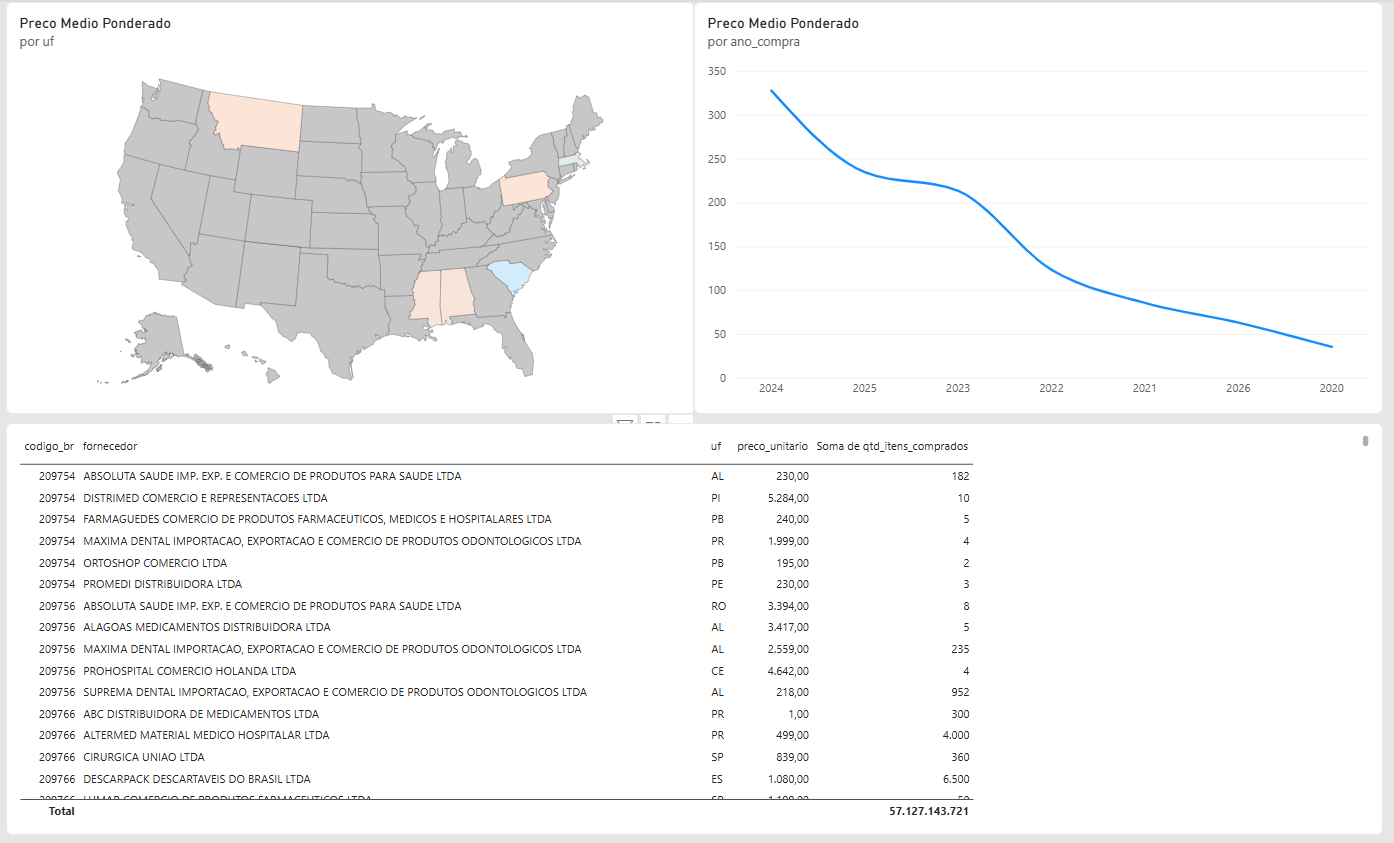

The dashboard page shown, as its layout file describes it:
{"tool":"powerbi","page":{"name":"Análise de Preços","canvas":[1920,1080],"ordinal":2},"visuals":[{"type":"shapeMap","fields":{"Category":["BPS_Consolidado.uf"],"Value":["BPS_Consolidado.Preco Medio Ponderado"]},"box":[11,0,860.7,514.9],"z":0},{"type":"lineChart","fields":{"Category":["BPS_Consolidado.ano_compra"],"Y":["BPS_Consolidado.Preco Medio Ponderado"]},"box":[871.7,0,861,515],"z":1},{"type":"tableEx","fields":{"Values":["BPS_Consolidado.codigo_br","BPS_Consolidado.fornecedor","BPS_Consolidado.uf","BPS_Consolidado.preco_unitario","Sum(BPS_Consolidado.qtd_itens_comprados)"]},"box":[11,526,1721.4,514.9],"z":2}]}

Visuals, with their boxes on the page's 1920x1080 design canvas (x1, y1, x2, y2). These are canvas units, not pixel positions in the 1394x843 screenshot, which may show the page scaled, cropped or inside an application window:
shapeMap - BPS_Consolidado.uf x BPS_Consolidado.Preco Medio Ponderado: Rect(11, 0, 872, 515)
lineChart - BPS_Consolidado.ano_compra x BPS_Consolidado.Preco Medio Ponderado: Rect(872, 0, 1733, 515)
tableEx - BPS_Consolidado.codigo_br x BPS_Consolidado.fornecedor: Rect(11, 526, 1732, 1041)
